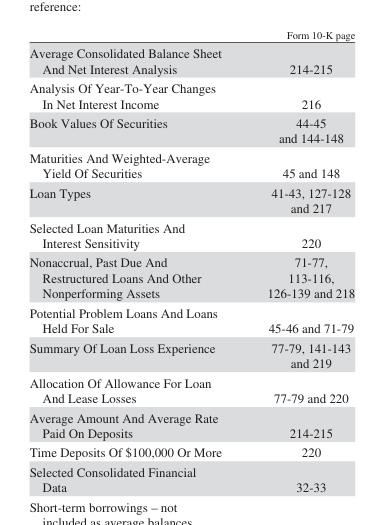table: (28, 28, 354, 494)
table column: (28, 28, 243, 494), (243, 28, 354, 494)
table column header: (28, 28, 354, 42)
table row: (28, 252, 354, 302), (28, 42, 354, 77), (28, 77, 354, 112), (28, 112, 354, 147), (28, 147, 354, 182), (28, 182, 354, 217), (28, 217, 354, 252), (28, 302, 354, 337), (28, 337, 354, 372), (28, 372, 354, 407), (28, 407, 354, 442), (28, 461, 354, 494), (28, 442, 354, 461), (28, 28, 354, 42)
